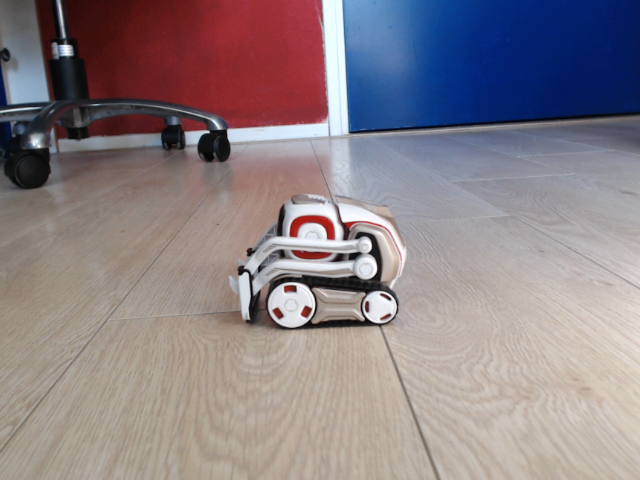cozmo: (227, 190, 410, 340)
